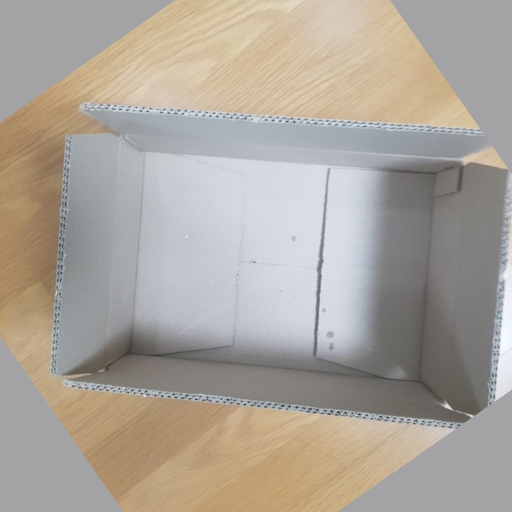Paper_0: (51, 96, 512, 430)
